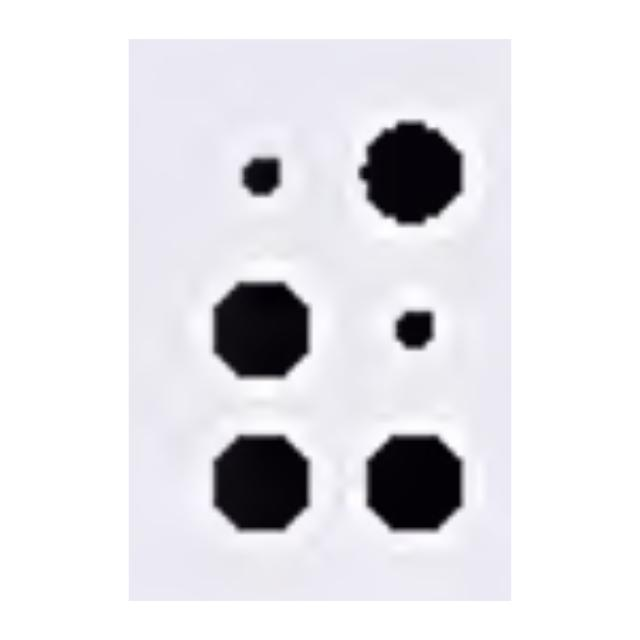one_cell_non_alphabet_ang: (209, 113, 467, 534)
